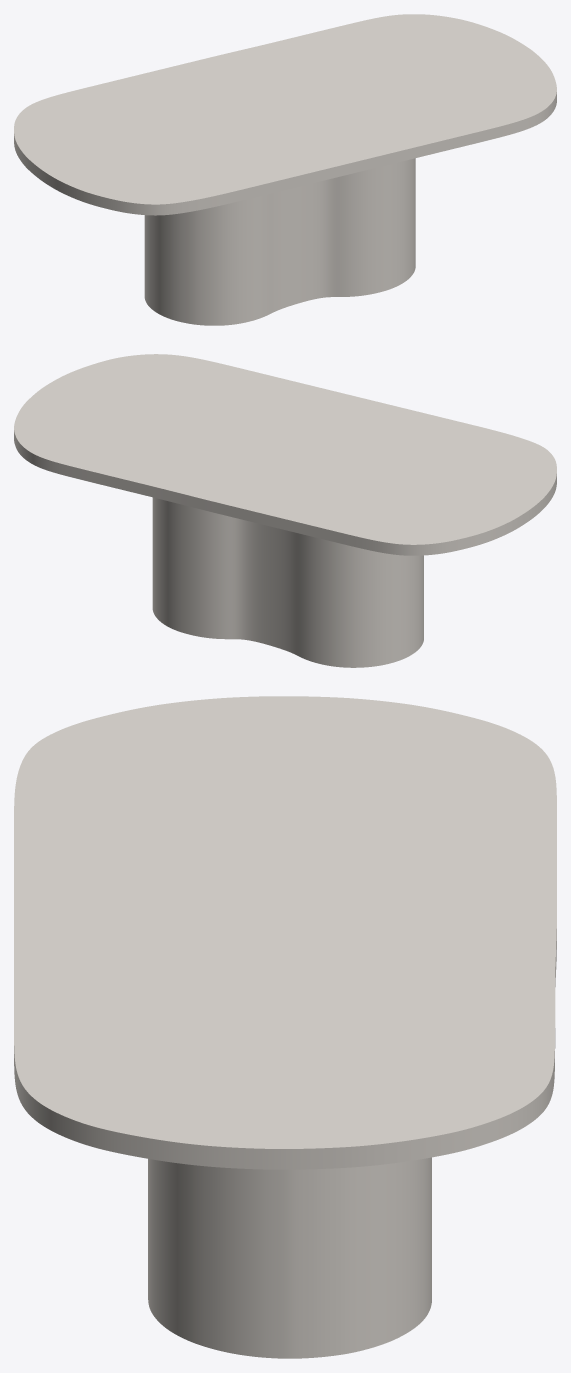
Rendered from pearlwhite_oval_standard_riverwave.glb.
The picture shows the model from 3 angles, top to bottom: view 1: azimuth 30°, elevation 25°; view 2: azimuth 150°, elevation 25°; view 3: azimuth 270°, elevation 25°; orthographic projection. The views are drawn at different scales.
Parts seen in each view (by area): view 1: standard_oval, riverwave; view 2: standard_oval, riverwave; view 3: standard_oval, riverwave.
Boxes of the visible parts, x1,y1,x2,y2 form: standard_oval: (14, 14, 556, 215); riverwave: (144, 158, 415, 325); standard_oval: (14, 354, 556, 555); riverwave: (152, 497, 423, 667); standard_oval: (14, 696, 556, 1169); riverwave: (148, 1157, 431, 1358).
Size of the model in its own units: 7.5 by 2.5 by 3.8.
Materials: 1 (1 with a texture image).
